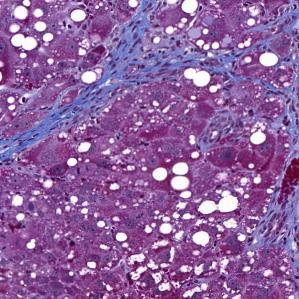fibrosis: (103, 21, 227, 91), (248, 38, 299, 156), (16, 110, 93, 145)
